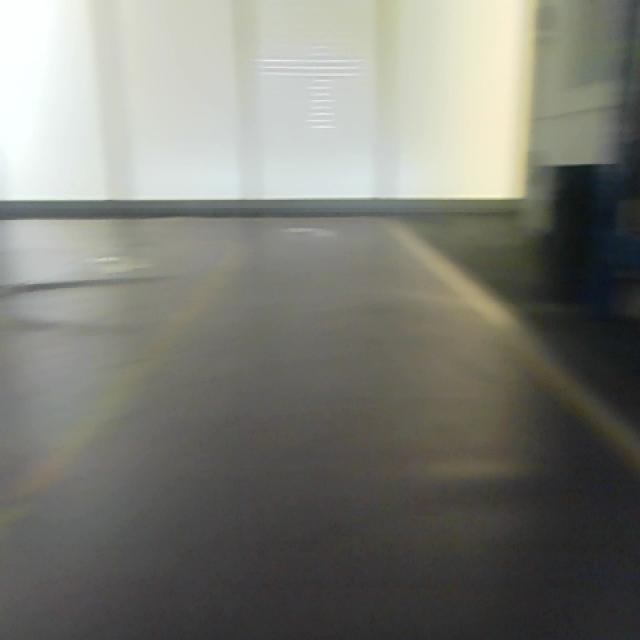left_lane: (0, 243, 246, 536)
right_lane: (394, 229, 638, 483)
